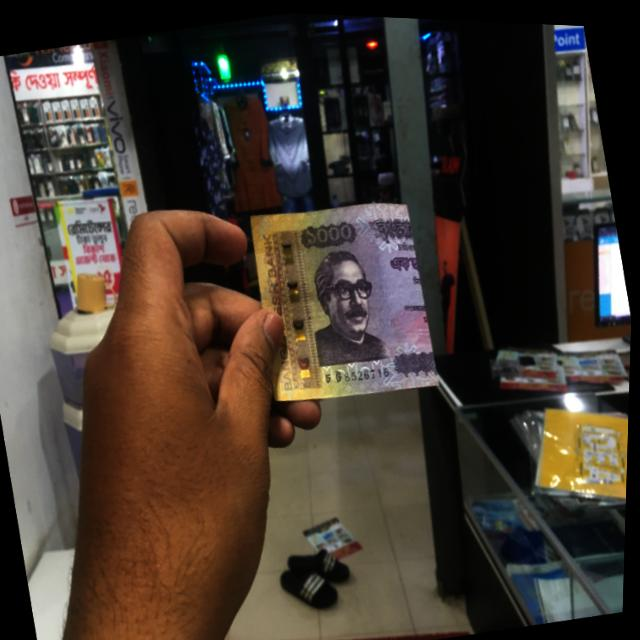Taka: (239, 173, 443, 404)
